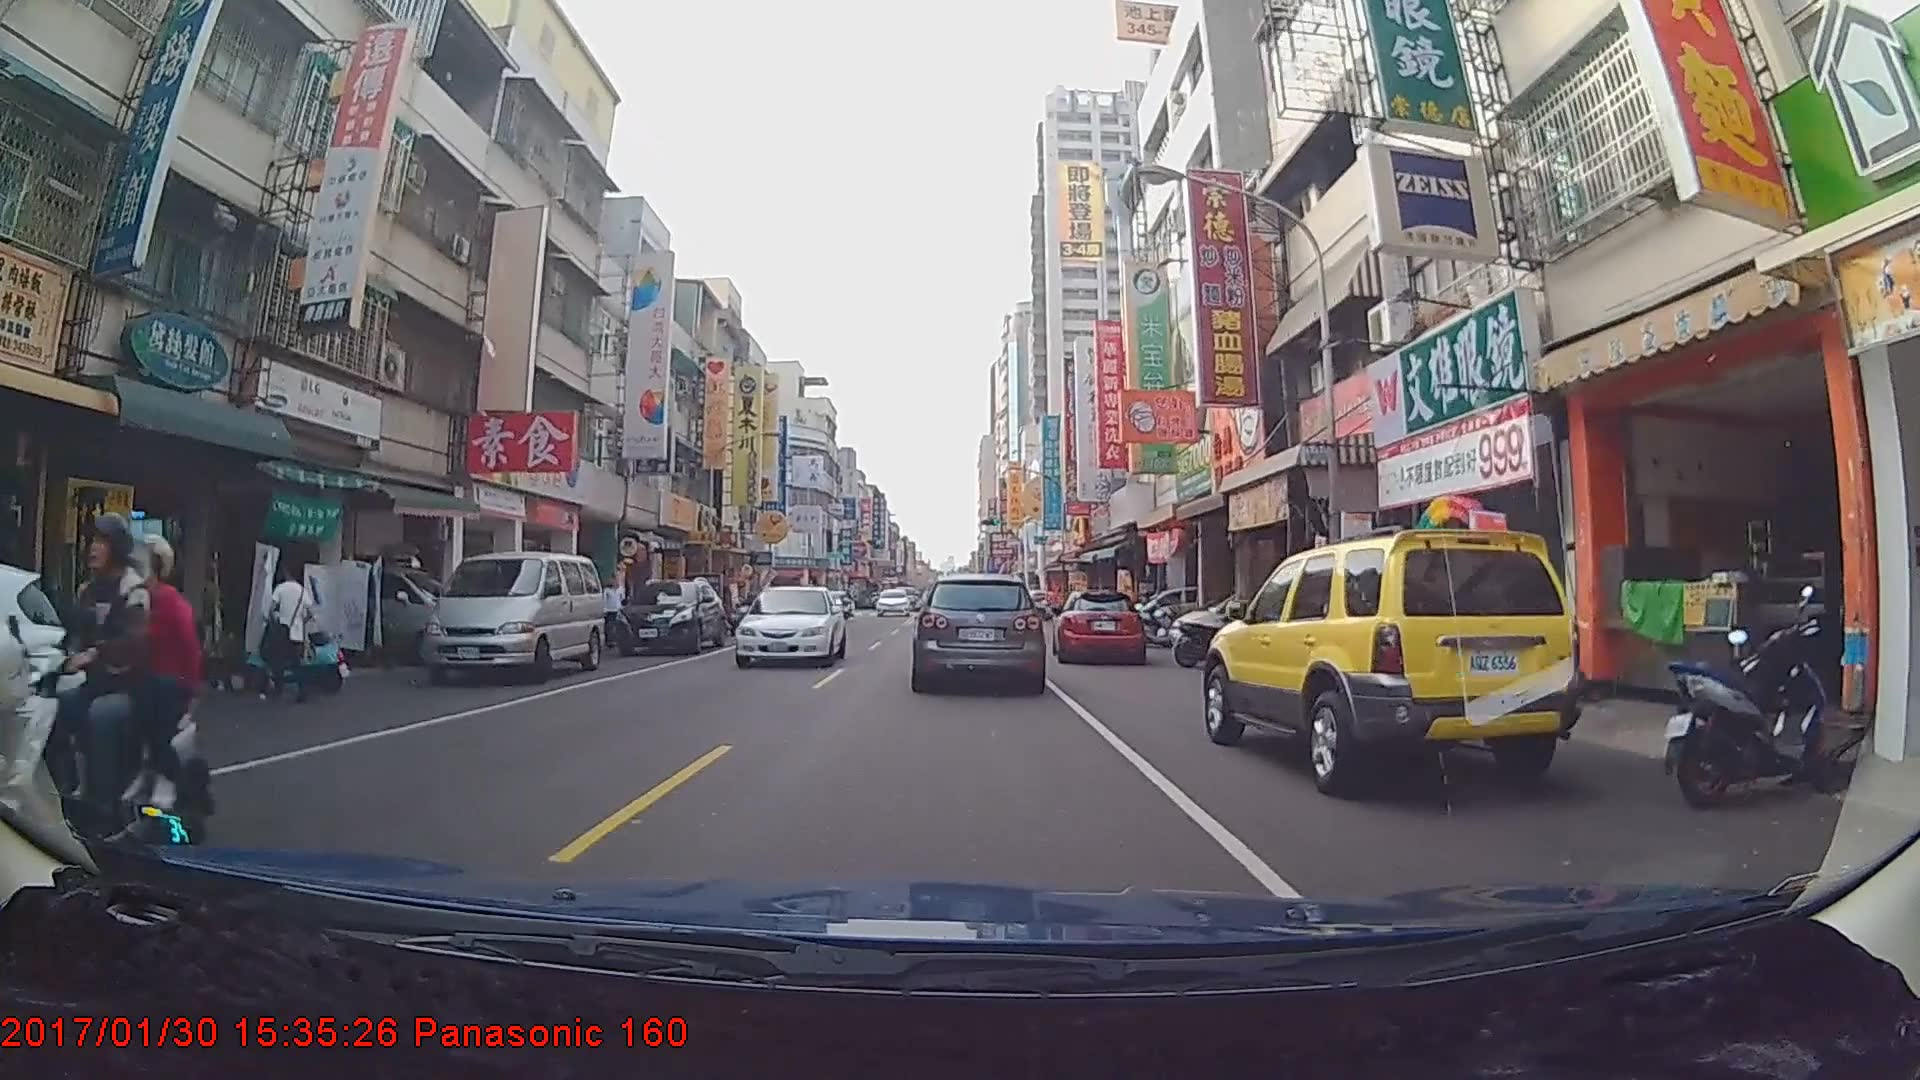pedestrian: (261, 558, 318, 699), (599, 576, 625, 648)
rider: (49, 510, 217, 878)
vehicle: (1204, 521, 1575, 788), (420, 550, 604, 682), (912, 573, 1043, 689), (736, 586, 846, 669), (613, 578, 723, 654), (1051, 588, 1146, 662), (875, 589, 910, 618)
